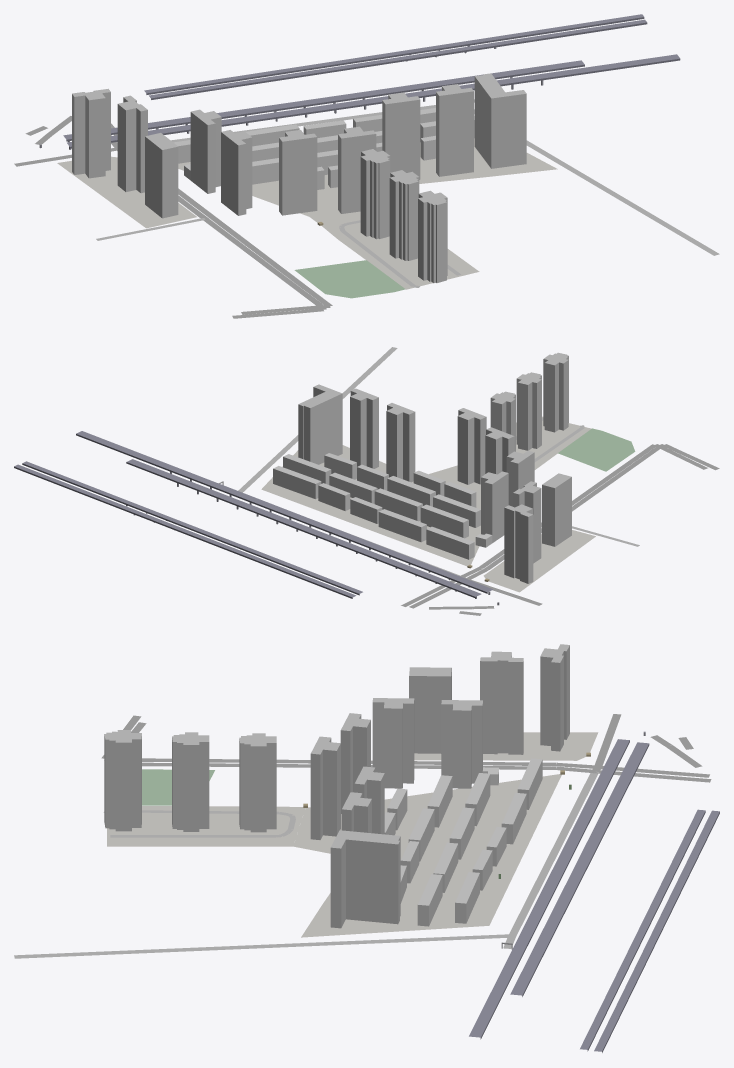
3 views of the same model, one above another, from view 1: azimuth 30°, elevation 25°; view 2: azimuth 150°, elevation 25°; view 3: azimuth 270°, elevation 25° (orthographic). The views are drawn at different scales.
Size of the model in its own units: 710 by 90.24 by 602.
